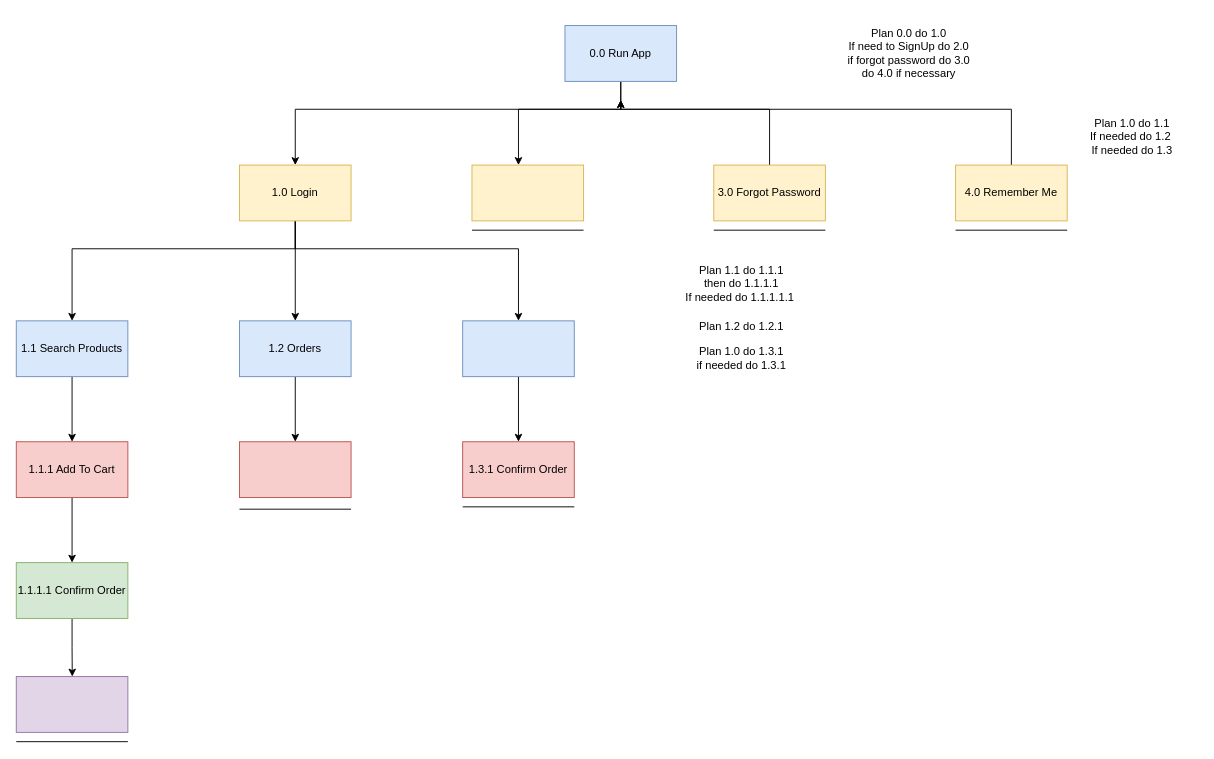
This 1214x759 diagram has some shape labels left out. Here are the shapes that lost their labels. From the top down, the centre of each, then its label:
At point 527,192: "2.0 SignUp".
At point 518,348: "1.3 Open Cart".
At point 295,469: "1.2.1 Review Order".
At point 71,704: "1.1.1.1.1 Logout".
